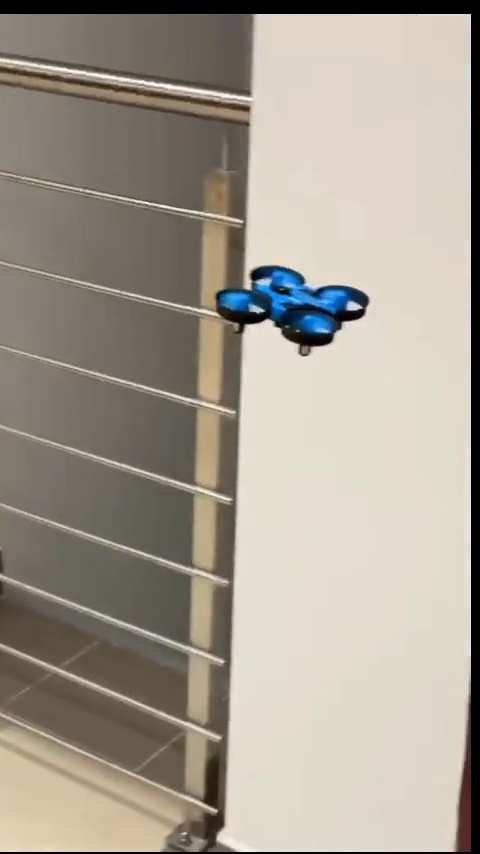drone: (219, 264, 379, 363)
